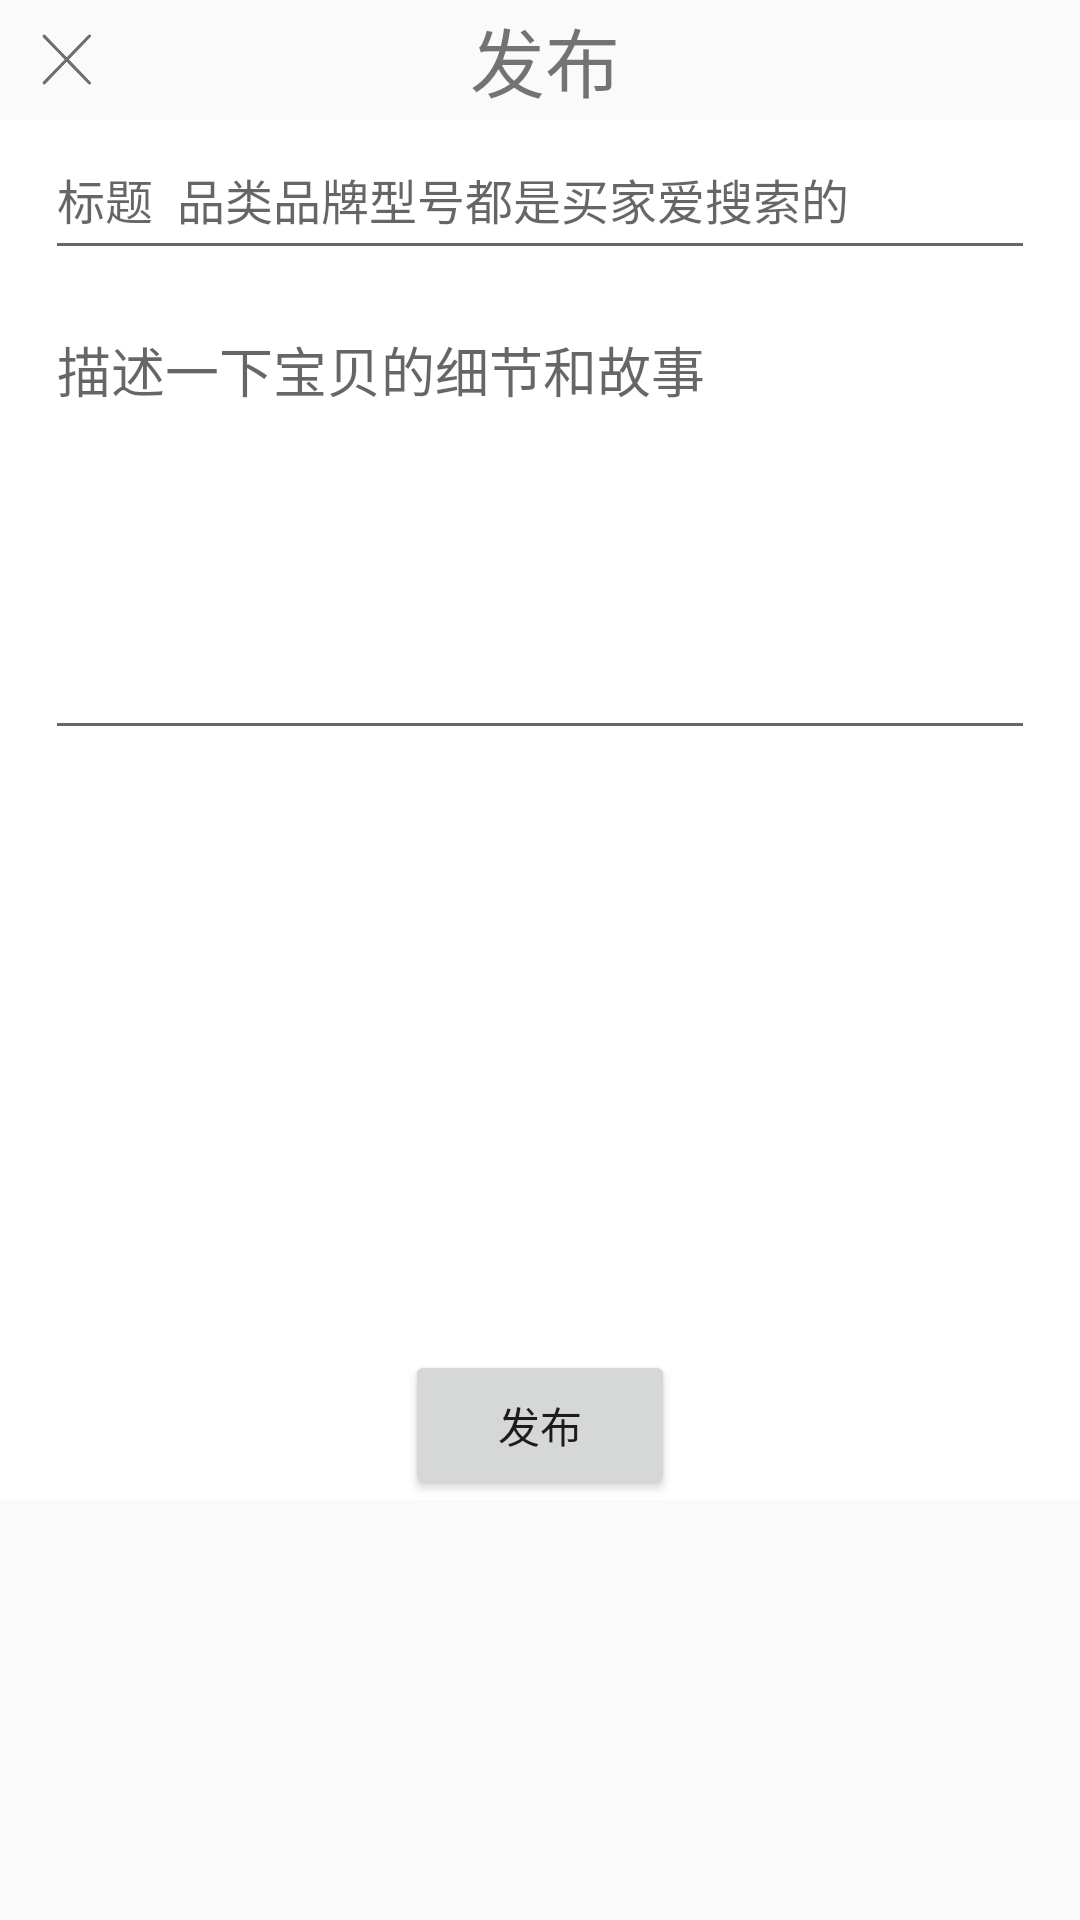

Locate icon controls on the screen. Image size 1080px x 1920px, boxes as [x1,y1,x2,y2].
close: [42,34,91,85]
